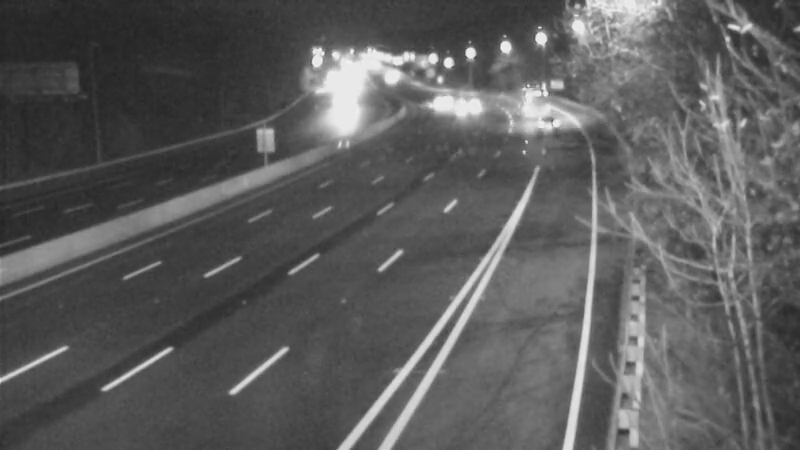vehicle: (506, 77, 556, 127), (412, 72, 462, 122), (445, 79, 495, 129), (523, 102, 573, 152)
